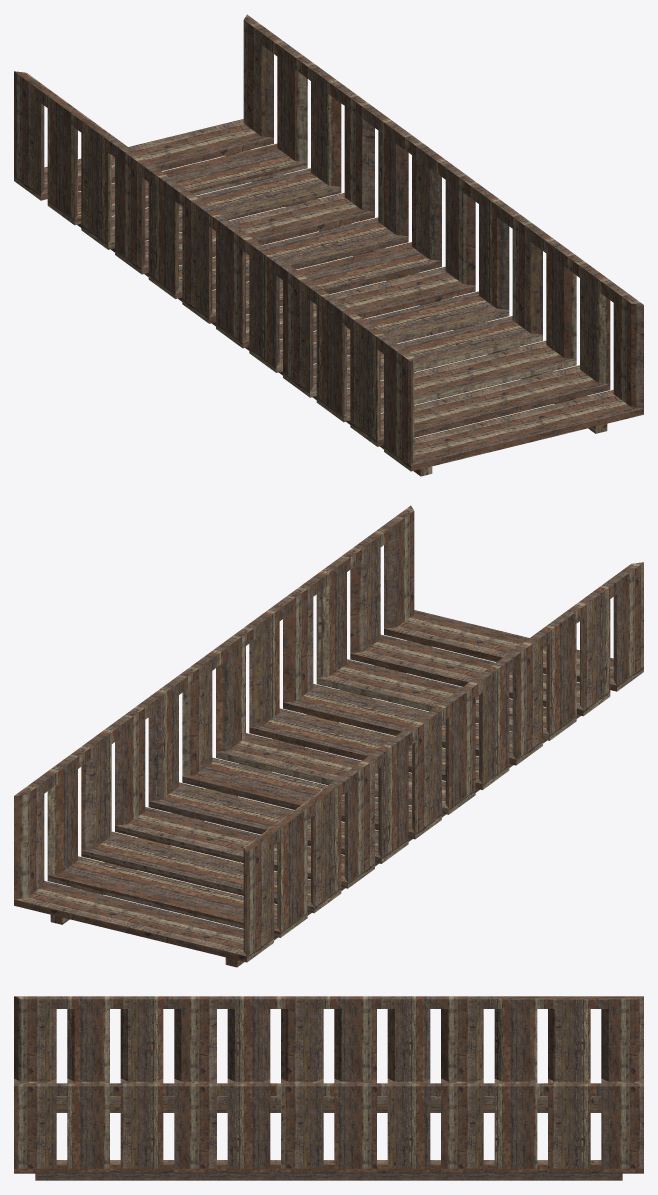
The picture shows the model from 3 angles, top to bottom: view 1: azimuth 30°, elevation 25°; view 2: azimuth 150°, elevation 25°; view 3: azimuth 270°, elevation 25°; orthographic projection. The views are drawn at different scales.
Parts seen in each view (by area): view 1: 立方体; view 2: 立方体; view 3: 立方体.
Boxes of the visible parts, x1=… form: 立方体: x1=14, y1=14, x2=643, y2=476; 立方体: x1=14, y1=505, x2=643, y2=967; 立方体: x1=14, y1=996, x2=643, y2=1180.
Bounding box in the file's own units: 4 × 2.14 × 11.8.
1 material, 1 textured.
